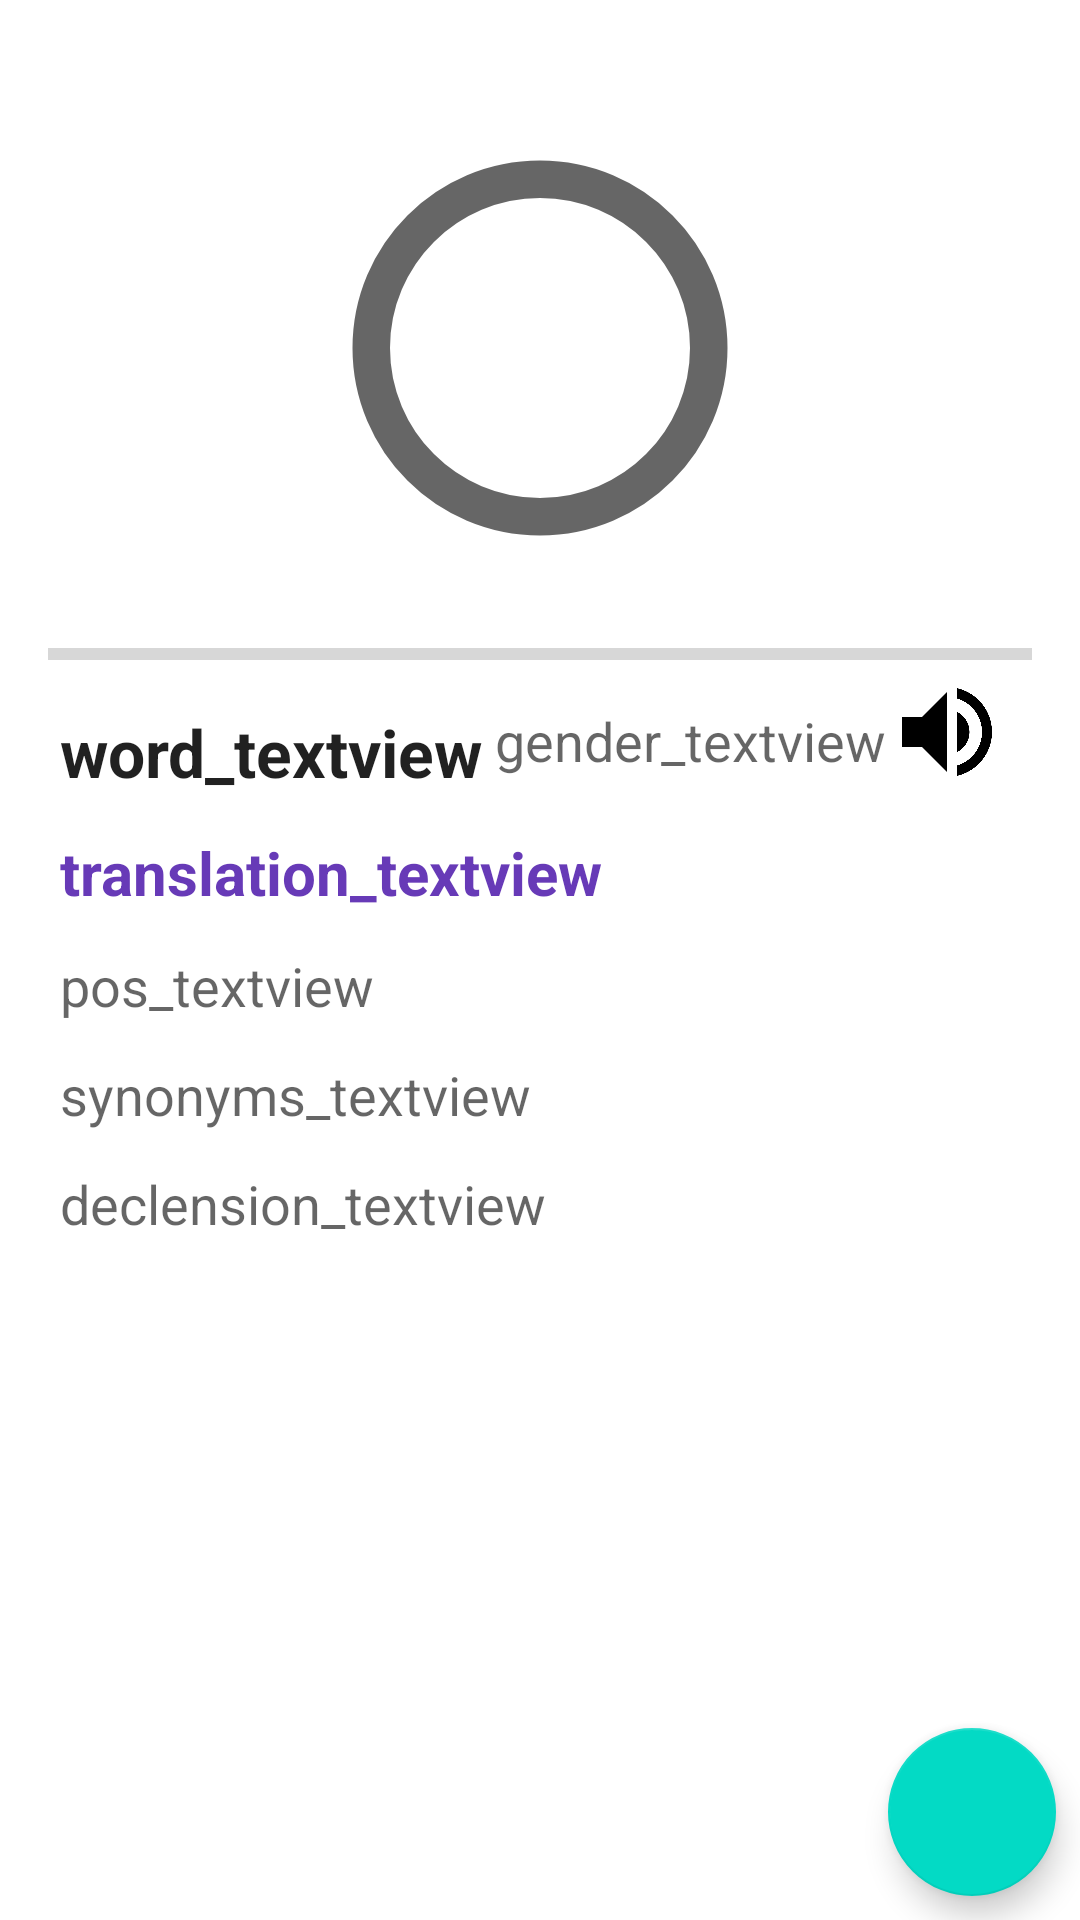

Named icons in this screenshot (1080w x 1920h) and their bounding boxes, (x1, y1, x2, y2):
text to speech: (902, 688, 992, 776)
